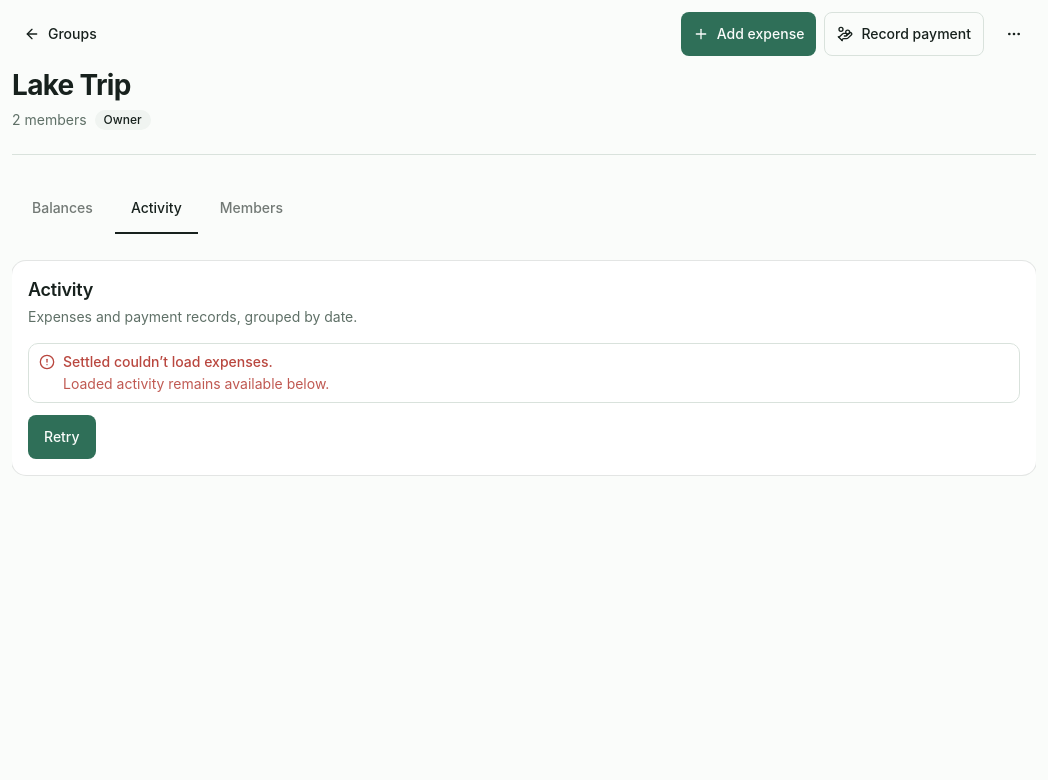
Scenario: independent group workspace failures › retries only the failed activity resource
Click the button "Retry". click: (62,437)
box: [28,415,96,459]
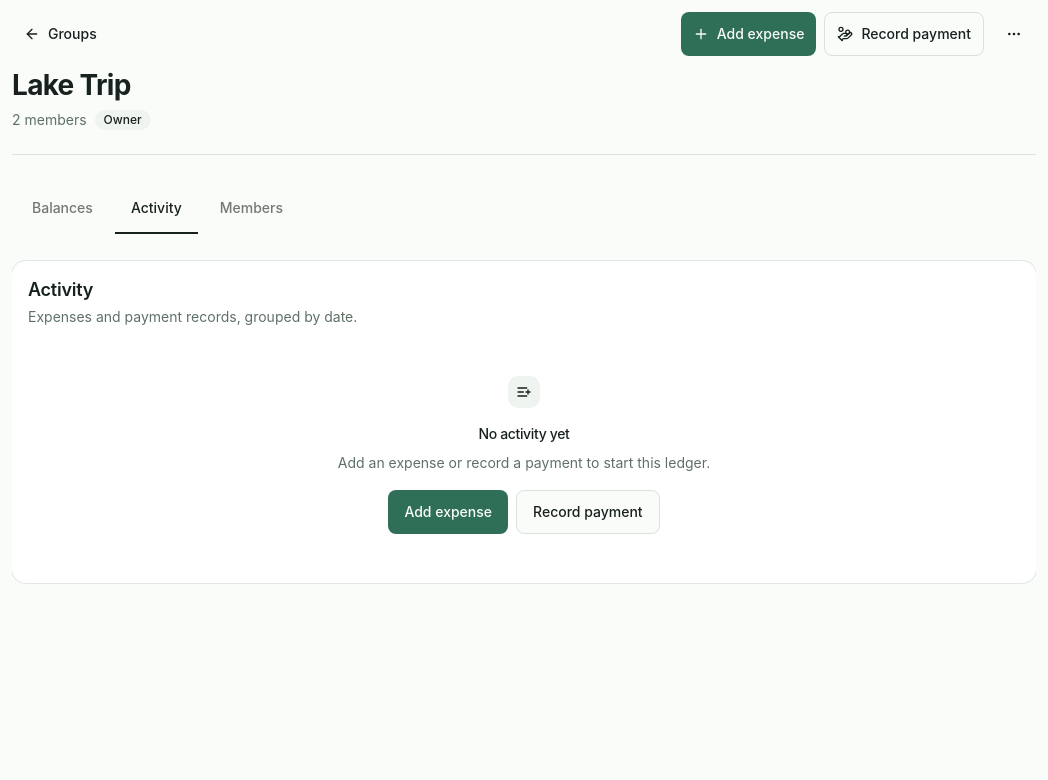
expect the text "No activity yet" is shown: met, box [478,424,570,444]
